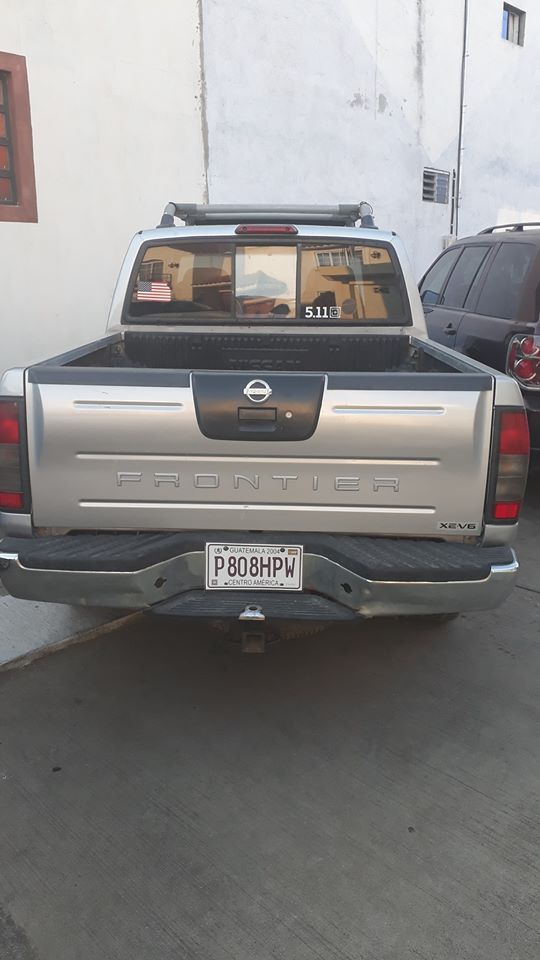pickup: (16, 199, 524, 640)
